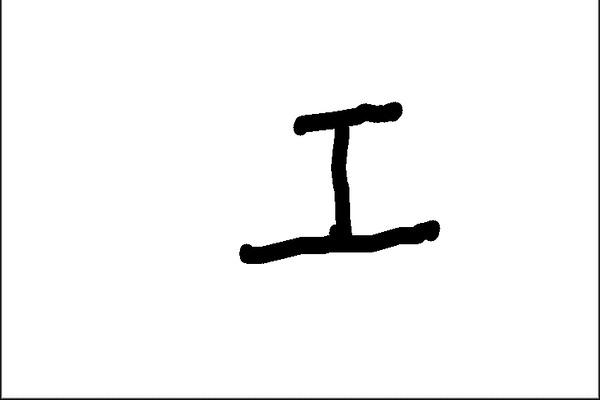i: (229, 97, 448, 277)
